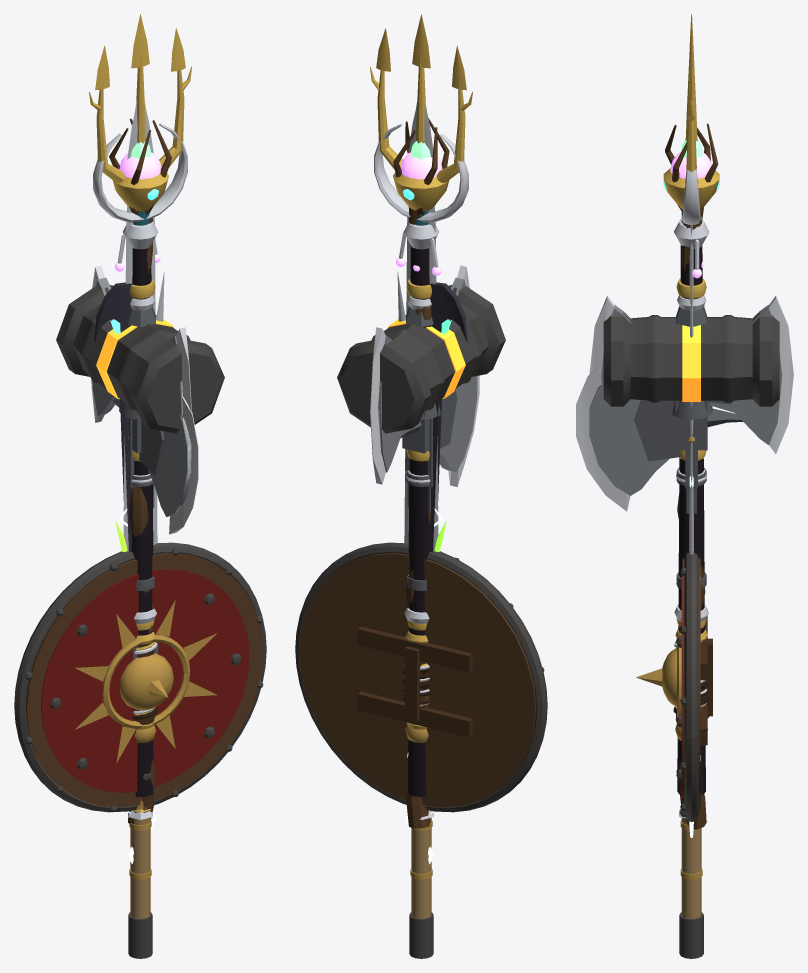
Rendered from weapons.glb.
3 views of the same model, side by side, from view 1: azimuth 30°, elevation 25°; view 2: azimuth 150°, elevation 25°; view 3: azimuth 270°, elevation 25° (orthographic).
Visible parts, largest first — view 1: shield, hammer-of-hephaestus, staff-of-hecate, trident-of-poseidon, iron-axe, ash-quarterstaff, oak-staff, reapers-edge, battle-axe, iron-greatsword; view 2: shield, hammer-of-hephaestus, staff-of-hecate, trident-of-poseidon, iron-axe, ash-quarterstaff, battle-axe, oak-staff, reapers-edge, iron-greatsword; view 3: hammer-of-hephaestus, iron-axe, shield, staff-of-hecate, battle-axe, trident-of-poseidon, ash-quarterstaff, oak-staff, iron-greatsword.
Boxes of the visible parts, x1=… form: shield: x1=14, y1=542, x2=266, y2=812; hammer-of-hephaestus: x1=56, y1=285, x2=224, y2=742; staff-of-hecate: x1=93, y1=123, x2=187, y2=819; trident-of-poseidon: x1=89, y1=14, x2=191, y2=812; iron-axe: x1=112, y1=396, x2=198, y2=534; ash-quarterstaff: x1=128, y1=797, x2=152, y2=958; oak-staff: x1=109, y1=118, x2=171, y2=823; reapers-edge: x1=94, y1=282, x2=132, y2=552; battle-axe: x1=91, y1=265, x2=191, y2=715; iron-greatsword: x1=123, y1=99, x2=158, y2=659; shield: x1=295, y1=542, x2=547, y2=812; hammer-of-hephaestus: x1=337, y1=285, x2=505, y2=742; staff-of-hecate: x1=374, y1=123, x2=468, y2=819; trident-of-poseidon: x1=370, y1=14, x2=472, y2=810; iron-axe: x1=400, y1=375, x2=479, y2=688; ash-quarterstaff: x1=409, y1=817, x2=433, y2=958; battle-axe: x1=370, y1=265, x2=469, y2=700; oak-staff: x1=393, y1=118, x2=449, y2=828; reapers-edge: x1=429, y1=282, x2=467, y2=552; iron-greatsword: x1=404, y1=99, x2=438, y2=642; hammer-of-hephaestus: x1=603, y1=306, x2=779, y2=740; iron-axe: x1=576, y1=365, x2=742, y2=688; shield: x1=636, y1=553, x2=712, y2=822; staff-of-hecate: x1=670, y1=138, x2=711, y2=818; battle-axe: x1=589, y1=296, x2=793, y2=709; trident-of-poseidon: x1=663, y1=14, x2=720, y2=809; ash-quarterstaff: x1=679, y1=818, x2=703, y2=958; oak-staff: x1=665, y1=123, x2=718, y2=829; iron-greatsword: x1=689, y1=224, x2=702, y2=642.
Size of the model in its own units: 0.808 by 2.89 by 0.607.
